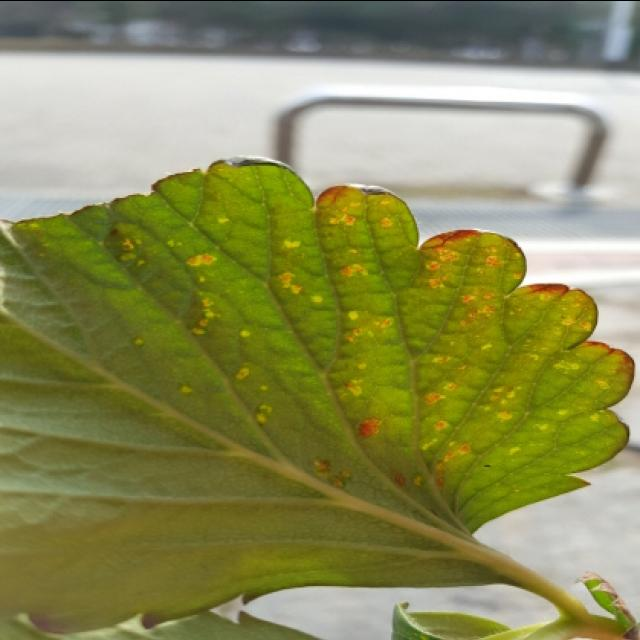Angular Leafspot: (13, 157, 631, 525)
